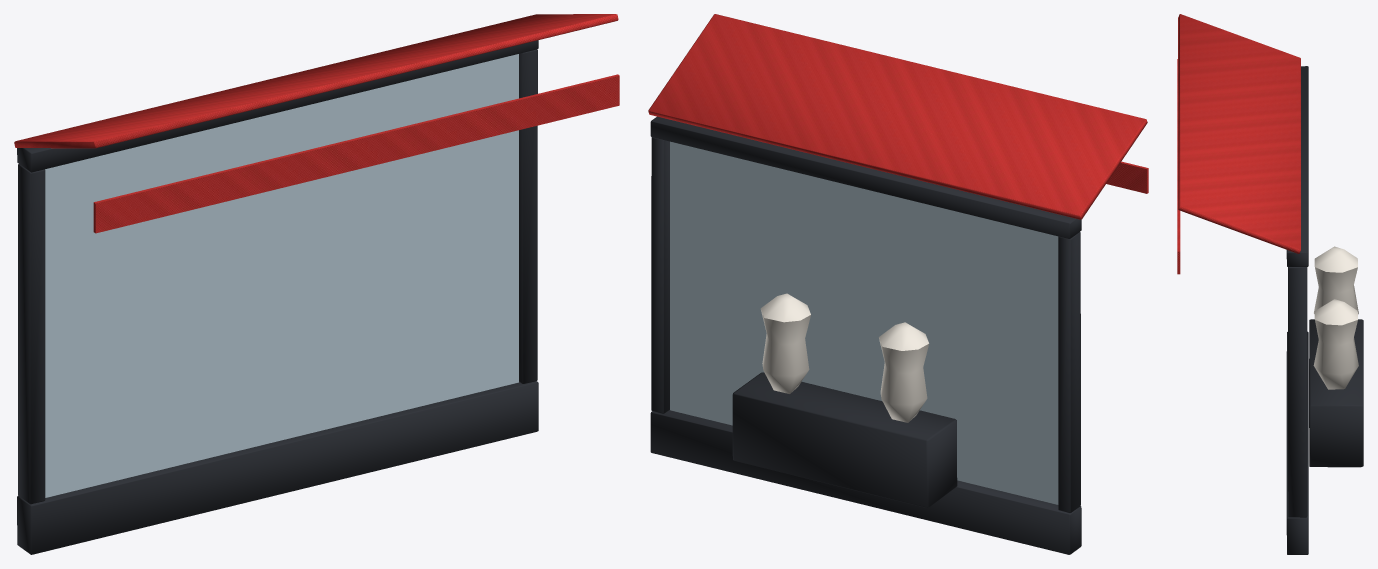
Rendered from fachada-vitrine-30-leve.glb.
3 renders of one model, left to right at view 1: azimuth 30°, elevation 25°; view 2: azimuth 150°, elevation 25°; view 3: azimuth 270°, elevation 25°, orthographic. The views are drawn at different scales.
Visible parts, largest first — view 1: vidro, soleira, sanefa, toldo, coluna, coluna.001, verga; view 2: vidro, toldo, expositor, soleira, verga, coluna, coluna.001, busto, busto.001, sanefa; view 3: toldo, expositor, coluna.001, busto.001, busto, verga, soleira, sanefa.
Part boxes in pixels (x1,y1,x2,y2): vidro: [45, 54, 518, 497]; soleira: [17, 381, 538, 554]; sanefa: [93, 74, 619, 233]; toldo: [14, 14, 618, 148]; coluna: [18, 164, 45, 504]; coluna.001: [519, 49, 537, 383]; verga: [17, 40, 538, 172]; vidro: [670, 141, 1058, 504]; toldo: [648, 14, 1147, 219]; expositor: [732, 372, 957, 507]; soleira: [650, 410, 1081, 554]; verga: [650, 116, 1081, 238]; coluna: [1058, 232, 1080, 512]; coluna.001: [651, 137, 669, 413]; busto: [879, 322, 929, 422]; busto.001: [760, 293, 810, 393]; sanefa: [1106, 161, 1148, 193]; toldo: [1178, 14, 1300, 253]; expositor: [1309, 319, 1363, 467]; coluna.001: [1288, 267, 1307, 517]; busto.001: [1313, 299, 1358, 389]; busto: [1314, 246, 1358, 314]; verga: [1286, 66, 1308, 266]; soleira: [1286, 331, 1308, 554]; sanefa: [1177, 59, 1180, 274].
Bounding box in the file's own units: 3.3 × 2.81 × 1.35.
4 materials, 1 textured.
